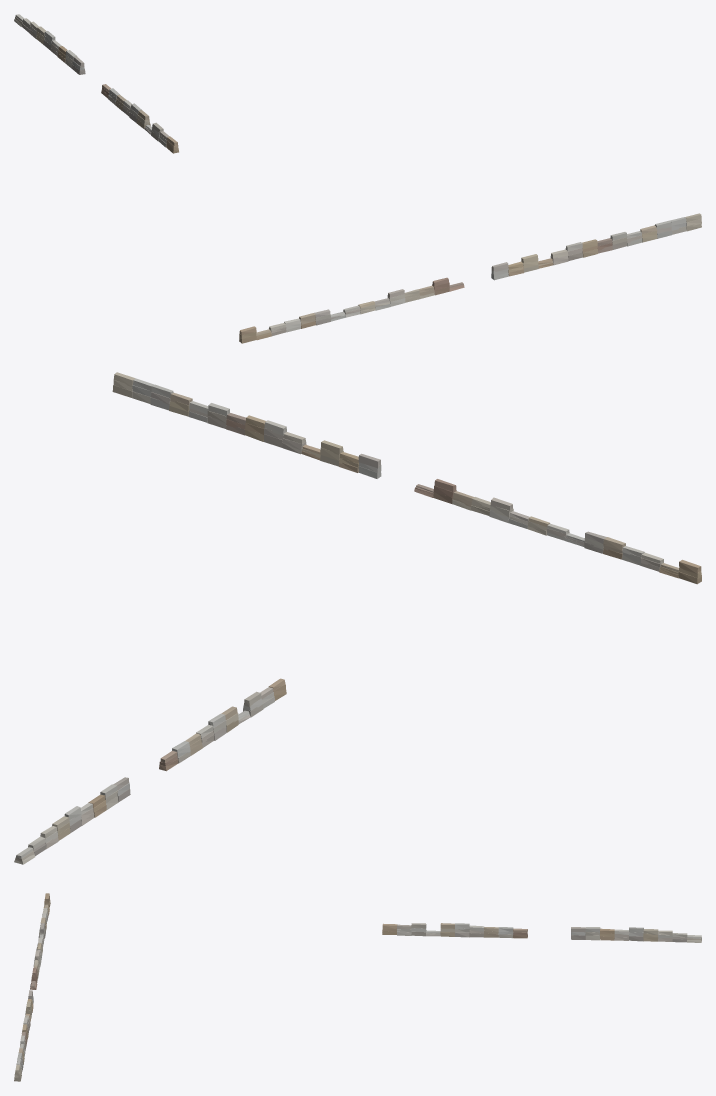
Rendered from farm_10_6_mid.glb.
The picture shows the model from 3 angles, top to bottom: view 1: azimuth 30°, elevation 25°; view 2: azimuth 150°, elevation 25°; view 3: azimuth 270°, elevation 25°; orthographic projection. The views are drawn at different scales.
Parts seen in each view (by area): view 1: geometry_0; view 2: geometry_0; view 3: geometry_0.
Part boxes in pixels (box(x1,y1,x2,y2)): geometry_0: box(14, 14, 701, 343); geometry_0: box(14, 372, 701, 864); geometry_0: box(14, 893, 701, 1081).
Size of the model in its own units: 49.21 by 4.1 by 72.76.
